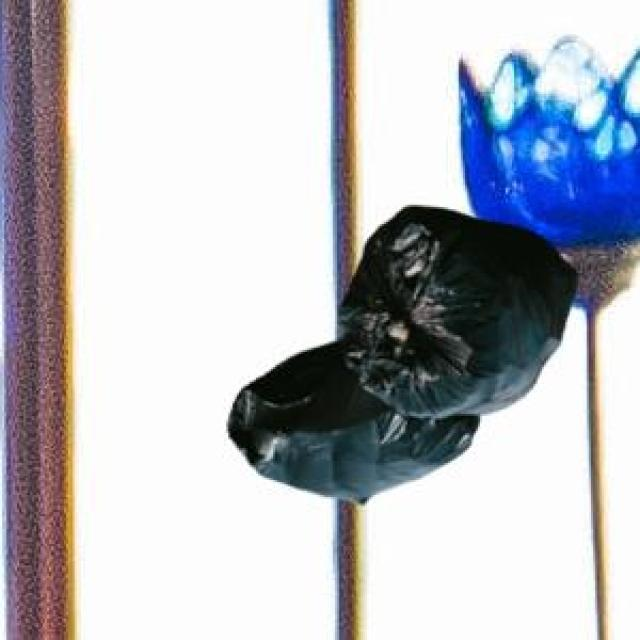miscellaneous trash: (224, 203, 574, 499)
